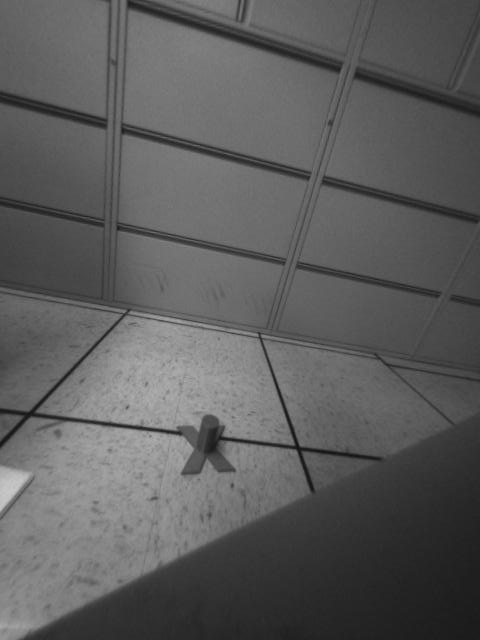X: (175, 412, 234, 476)
